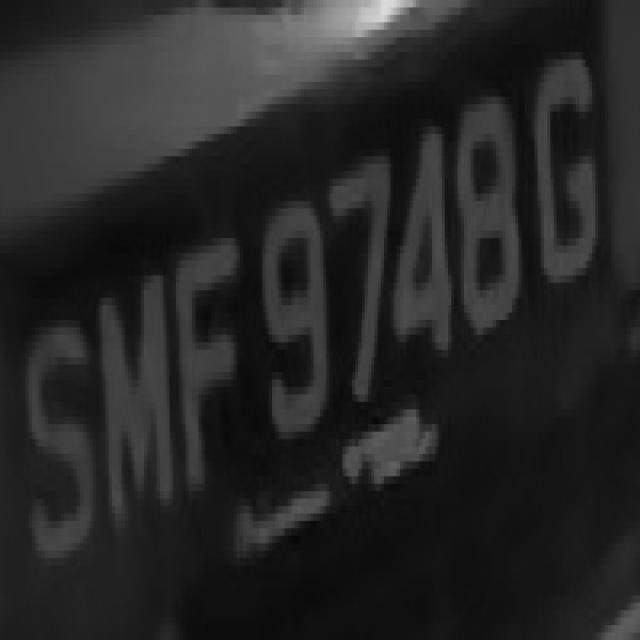4: (378, 112, 454, 387)
7: (308, 156, 390, 424)
8: (445, 82, 518, 372)
9: (253, 193, 323, 469)
F: (157, 216, 246, 528)
G: (512, 60, 602, 328)
M: (86, 245, 182, 536)
S: (22, 298, 100, 580)
